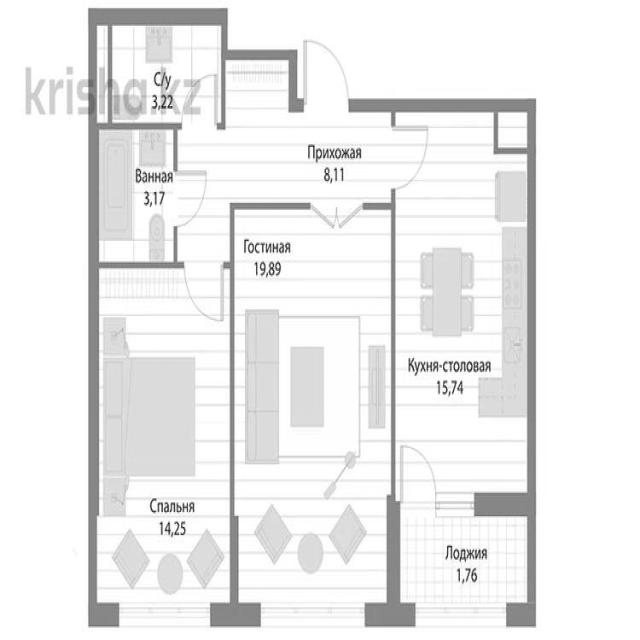bathroom: (96, 19, 222, 126), (96, 125, 176, 265)
hallway: (225, 102, 395, 205), (400, 508, 532, 617)
kitchen: (394, 112, 534, 510)
living_room: (234, 206, 397, 614), (100, 271, 233, 610)
